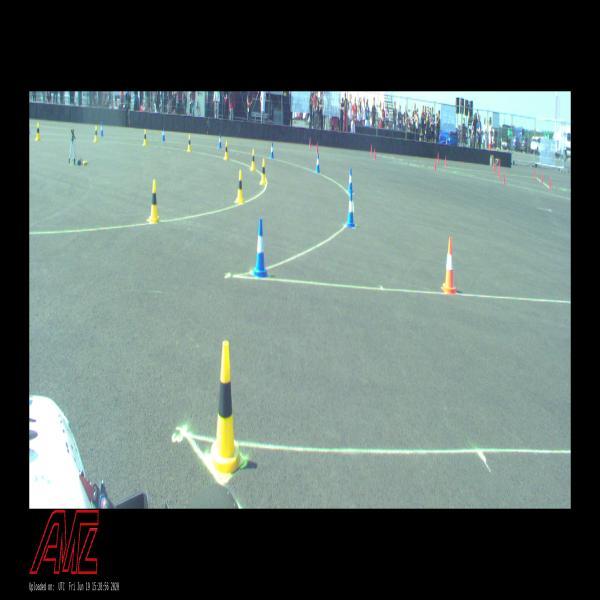blue_cone: (251, 219, 270, 278), (346, 190, 356, 227), (347, 168, 353, 193), (316, 153, 320, 173), (270, 142, 274, 159), (100, 121, 104, 136), (218, 133, 222, 148), (162, 126, 165, 141)
orange_cone: (441, 238, 458, 294)
unknown_cone: (548, 176, 552, 189), (503, 171, 506, 184), (373, 149, 376, 160), (497, 167, 500, 178), (444, 158, 447, 168), (434, 157, 436, 170), (316, 142, 318, 154), (541, 172, 543, 183), (309, 137, 311, 148), (370, 144, 372, 155), (534, 168, 536, 178)
yellow_cone: (209, 341, 244, 479), (148, 180, 160, 222), (235, 170, 244, 204), (260, 159, 266, 185), (35, 123, 41, 140), (251, 150, 256, 170), (224, 141, 229, 160), (187, 134, 192, 152), (94, 125, 99, 142), (143, 129, 147, 146)
